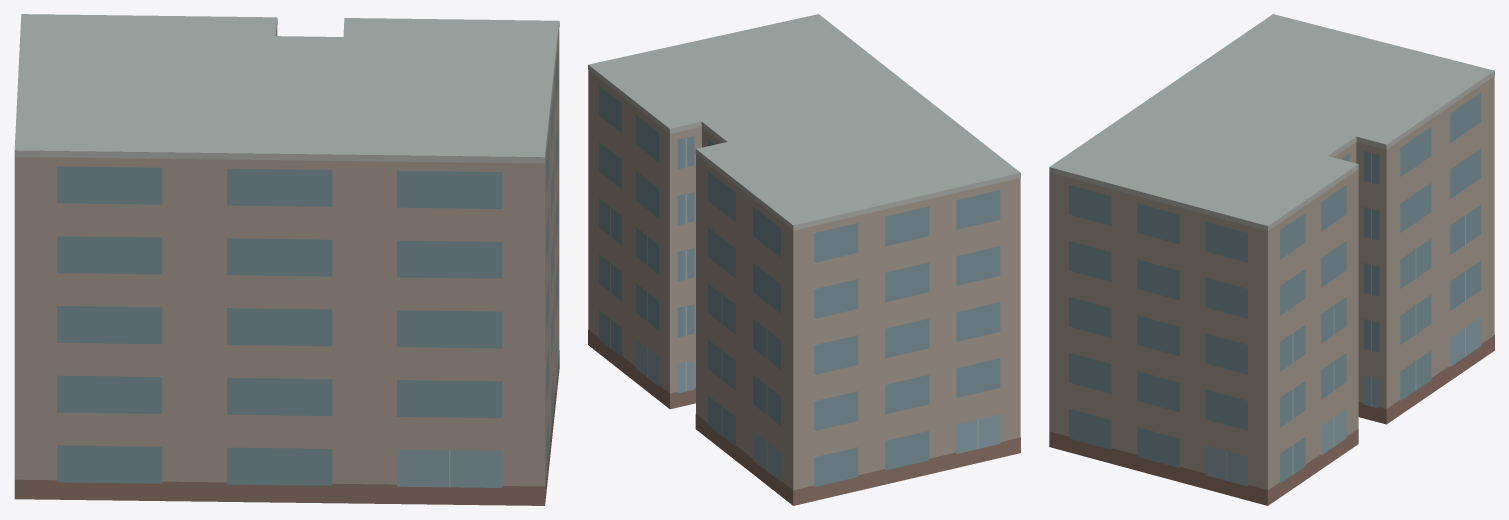
The model's file is survey-upis-32997812.glb.
3 views of the same model, side by side, from view 1: azimuth 30°, elevation 25°; view 2: azimuth 150°, elevation 25°; view 3: azimuth 270°, elevation 25° (orthographic). The views are drawn at different scales.
Visible parts, largest first — view 1: survey-upis-32997812.tmp; view 2: survey-upis-32997812.tmp; view 3: survey-upis-32997812.tmp.
Boxes of the visible parts, bbox=[...] form: survey-upis-32997812.tmp: bbox=[14, 14, 559, 505]; survey-upis-32997812.tmp: bbox=[588, 14, 1020, 505]; survey-upis-32997812.tmp: bbox=[1049, 14, 1494, 505].
Size of the model in its own units: 21.62 by 13.3 by 19.2.
